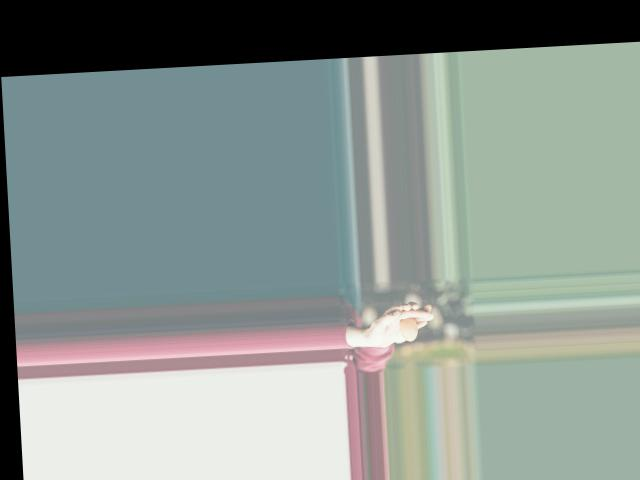egg: (399, 317, 417, 341)
